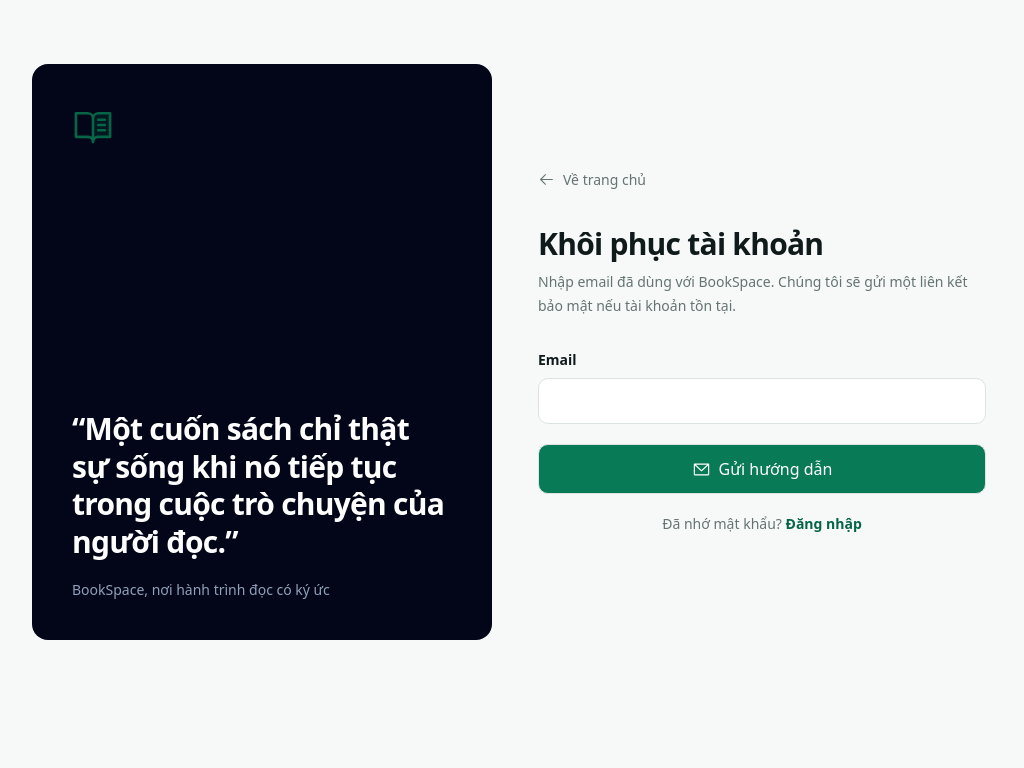
Test: password recovery pages › submits an email and keeps the success state enumeration-safe
The width and height of the screenshot is (1024, 768).
Type "reader@bookspace.local" into the field labelled "Email" at (762, 401), box [538, 378, 986, 424]
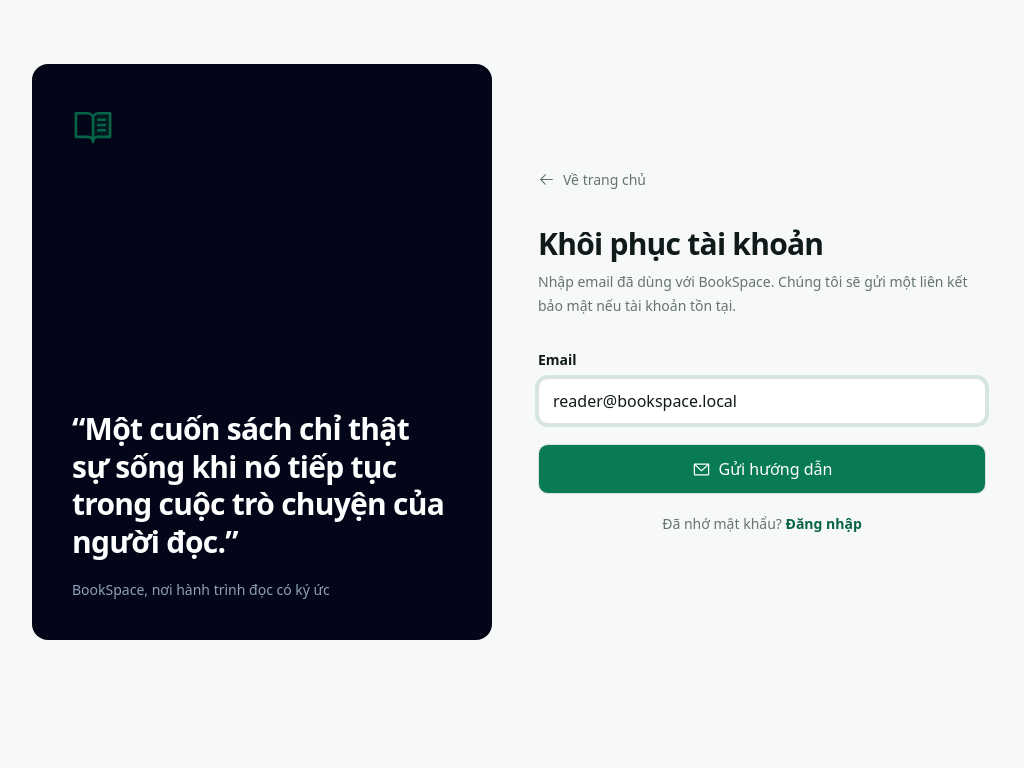
Click the button "Gửi hướng dẫn" at (762, 469), box [538, 444, 986, 494]
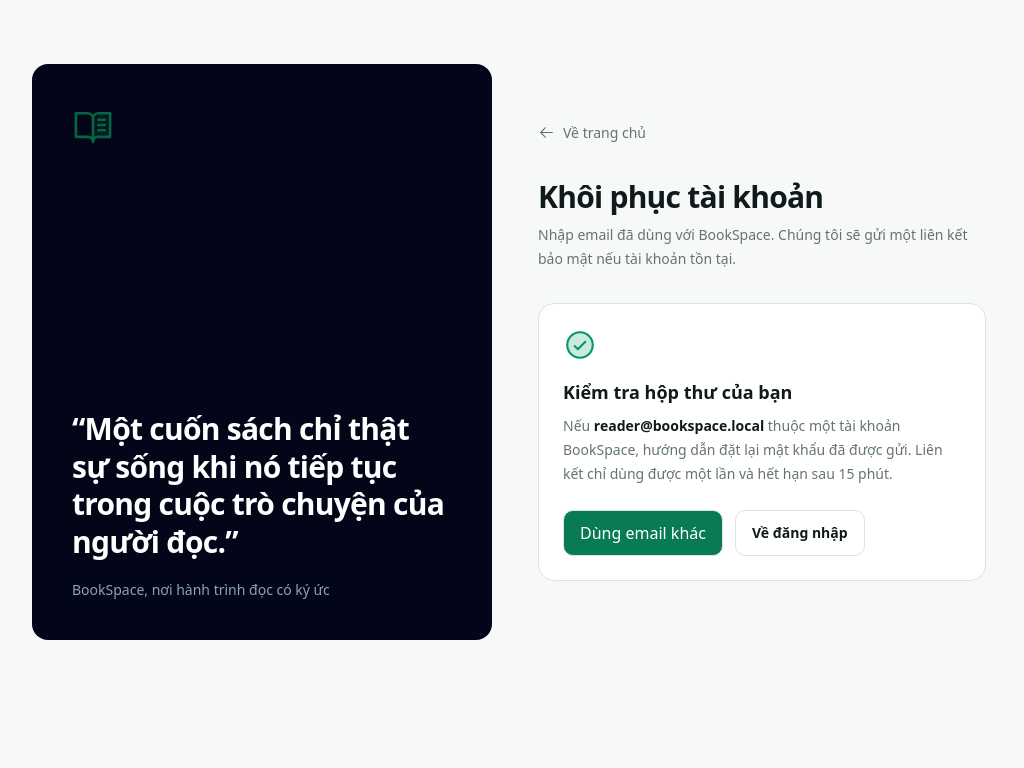
Expected: the heading "Kiểm tra hộp thư của bạn" is shown, [563, 380, 792, 404]
Expected: the message shows "Nếu reader@bookspace.local thuộc một tài khoản BookSpace", [538, 303, 986, 581]
